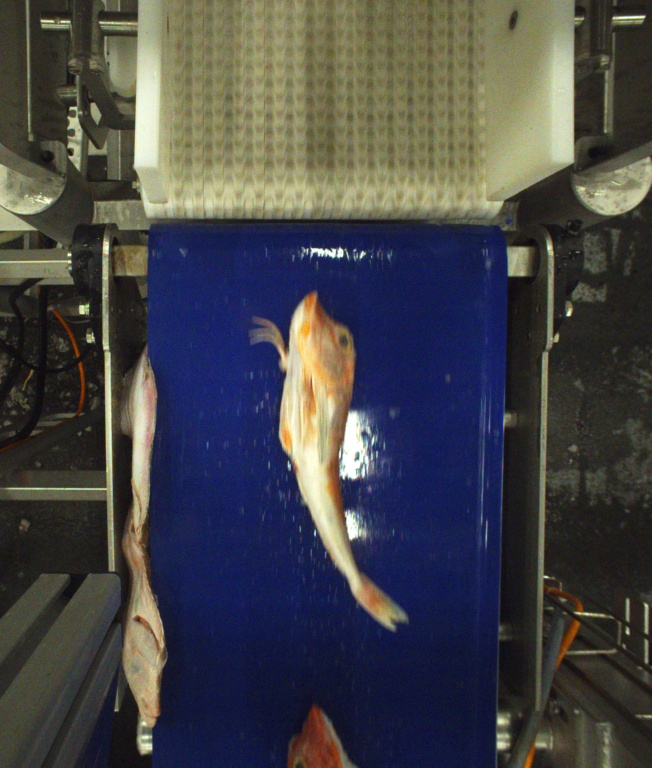GUU: (247, 290, 408, 632)
